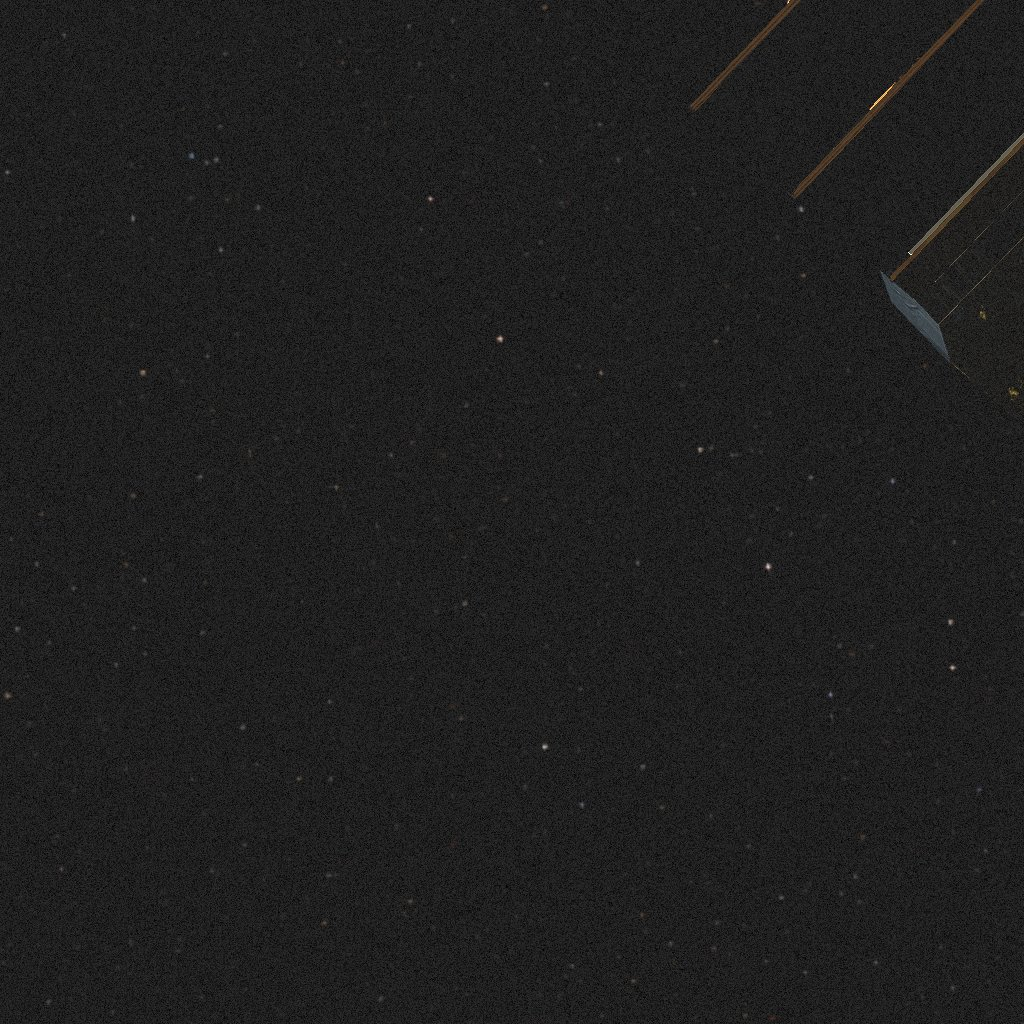soho: (689, 0, 1024, 422)
